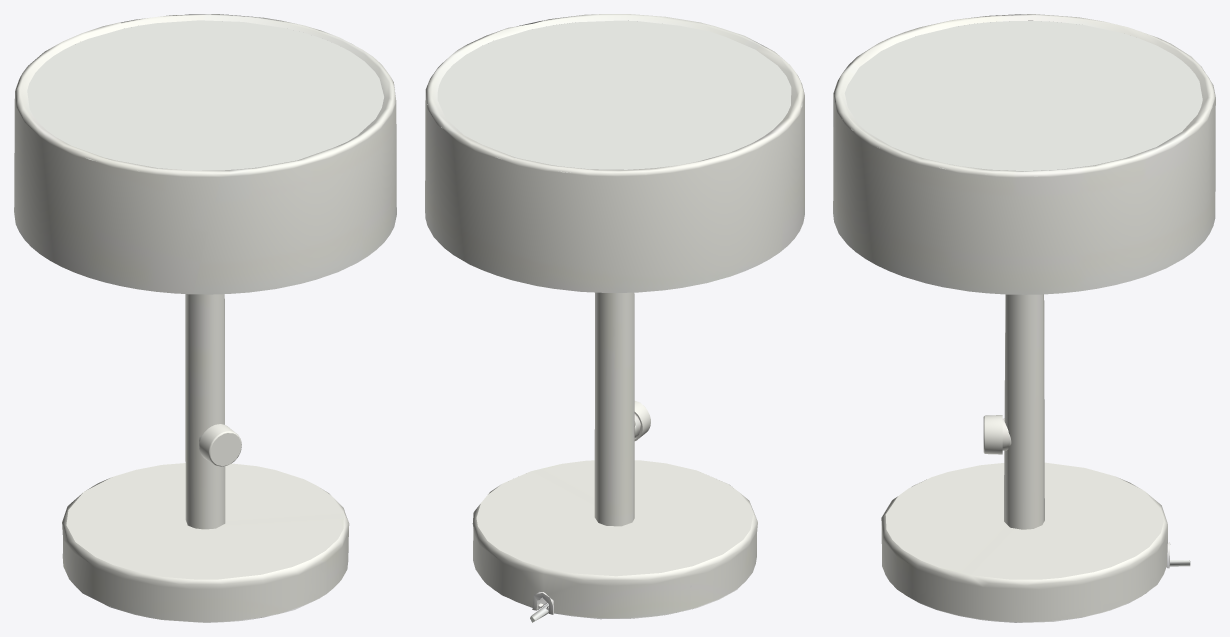
Rendered from 19 - NYMÅNE Table lamp - white 33 cm.glb.
The picture shows the model from 3 angles, left to right: view 1: azimuth 30°, elevation 25°; view 2: azimuth 150°, elevation 25°; view 3: azimuth 270°, elevation 25°; orthographic projection.
Parts seen in each view (by area): view 1: ASY_LPT03_40593071_S01_NV01, ASY_ART_40593071_S01_NV01, ASY_LPT02_40593071_S01_NV01; view 2: ASY_LPT03_40593071_S01_NV01, ASY_ART_40593071_S01_NV01; view 3: ASY_LPT03_40593071_S01_NV01, ASY_ART_40593071_S01_NV01, ASY_LPT02_40593071_S01_NV01.
Boxes of the visible parts, x1,y1,x2,y2 form: ASY_LPT03_40593071_S01_NV01: [14, 14, 396, 294]; ASY_ART_40593071_S01_NV01: [62, 294, 349, 622]; ASY_LPT02_40593071_S01_NV01: [199, 424, 241, 466]; ASY_LPT03_40593071_S01_NV01: [425, 14, 804, 292]; ASY_ART_40593071_S01_NV01: [472, 292, 757, 622]; ASY_LPT03_40593071_S01_NV01: [833, 14, 1215, 294]; ASY_ART_40593071_S01_NV01: [881, 294, 1190, 622]; ASY_LPT02_40593071_S01_NV01: [983, 415, 1002, 454].
Size of the model in its own units: 0.2402 by 0.3287 by 0.2404.
Materials: 5 (5 with a texture image).
